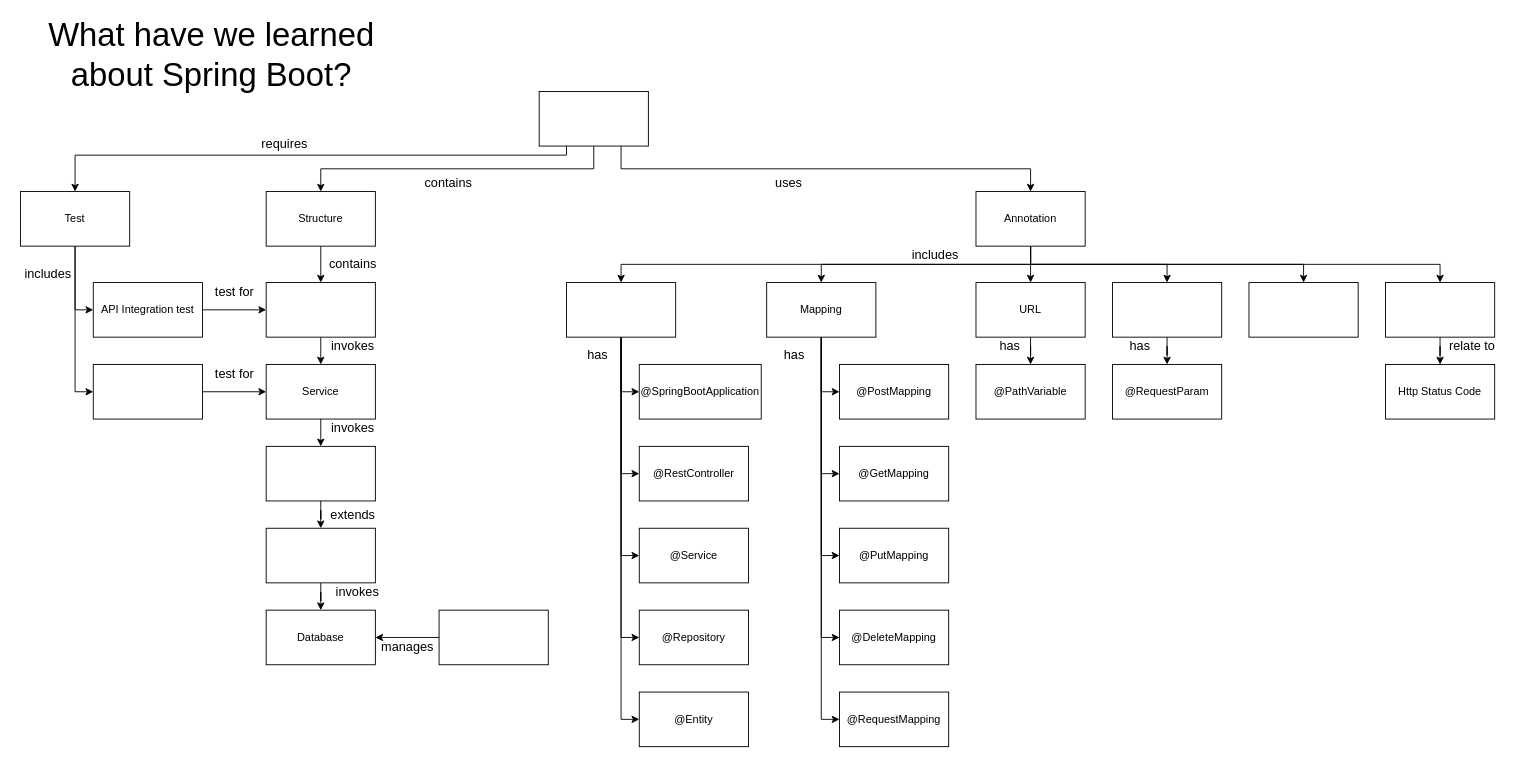
The diagram is 1519 pixels wide and 763 high, and some of its shapes have lost their labels. Here are the shapes that lost their labels. From the top down, the box of each, then its label:
(538, 91, 648, 146): Spring Boot
(265, 282, 375, 337): Controller
(566, 282, 676, 337): Structure Type
(1112, 282, 1222, 337): Query
(1248, 282, 1358, 337): @RequestBody
(1385, 282, 1495, 337): @ResponseStatus
(92, 364, 202, 419): Unit test
(265, 445, 375, 501): Repository
(265, 527, 375, 583): Jpa Repository
(438, 609, 548, 665): Flyway
